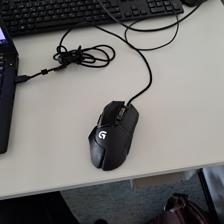mouse: (86, 100, 139, 172)
